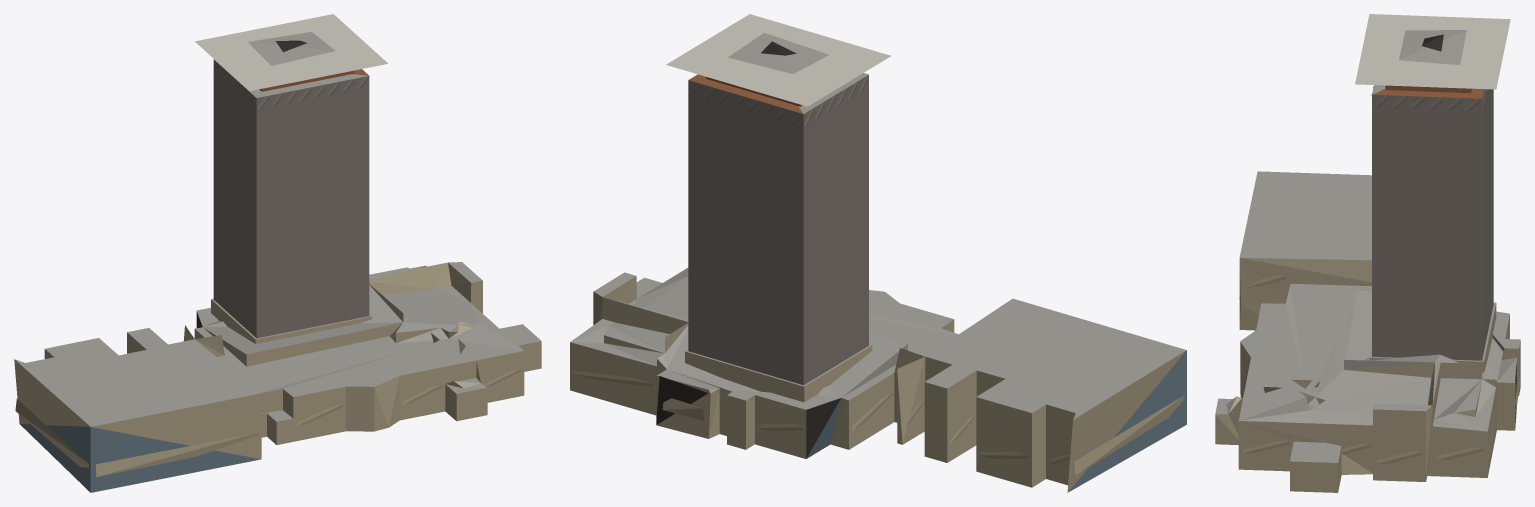
File: hotel-okura.lod2.glb
3 renders of one model, left to right at view 1: azimuth 30°, elevation 25°; view 2: azimuth 150°, elevation 25°; view 3: azimuth 270°, elevation 25°, orthographic. The views are drawn at different scales.
Visible parts, largest first — view 1: lod2; view 2: lod2; view 3: lod2.
Boxes of the visible parts, x1,y1,x2,y2 form: lod2: (14,14,541,492); lod2: (570,14,1186,492); lod2: (1215,14,1520,492).
Size of the model in its own units: 121 by 79.6 by 62.45.
